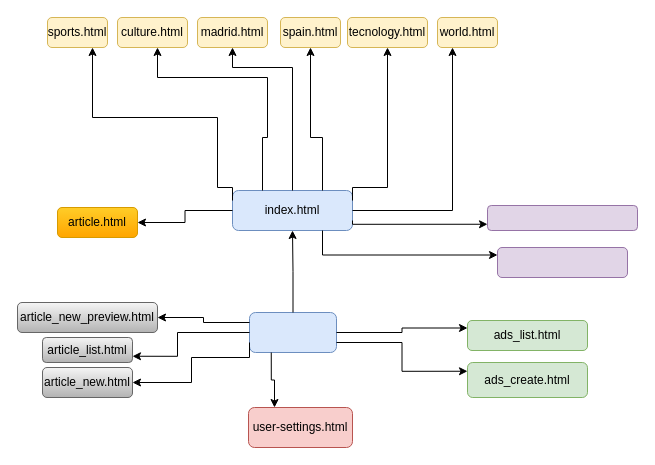
This 655x465 diagram has some shape labels left out. Here are the shapes that lost their labels. From the top down, the centre of each, then its label:
At [562,217]: "terms_and_conditions.html".
At [562,262]: "privacy_and_policy.html".
At [292,332]: "user-index.html".
